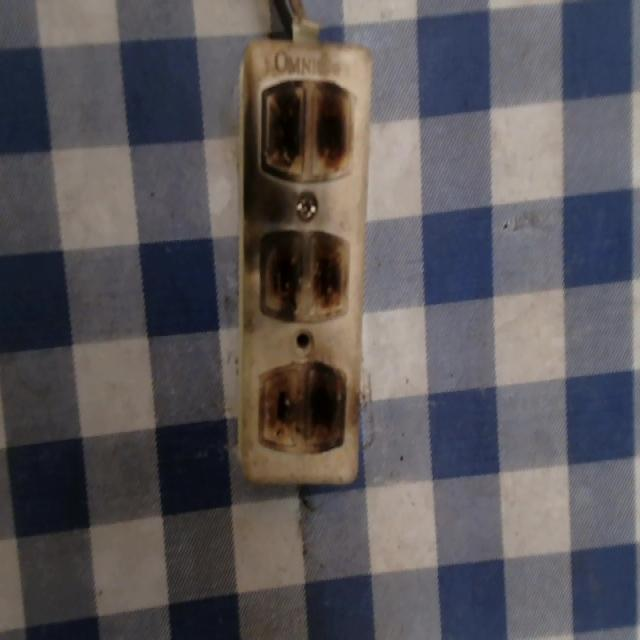-: (256, 70, 358, 182), (254, 355, 347, 453), (259, 226, 349, 322)
